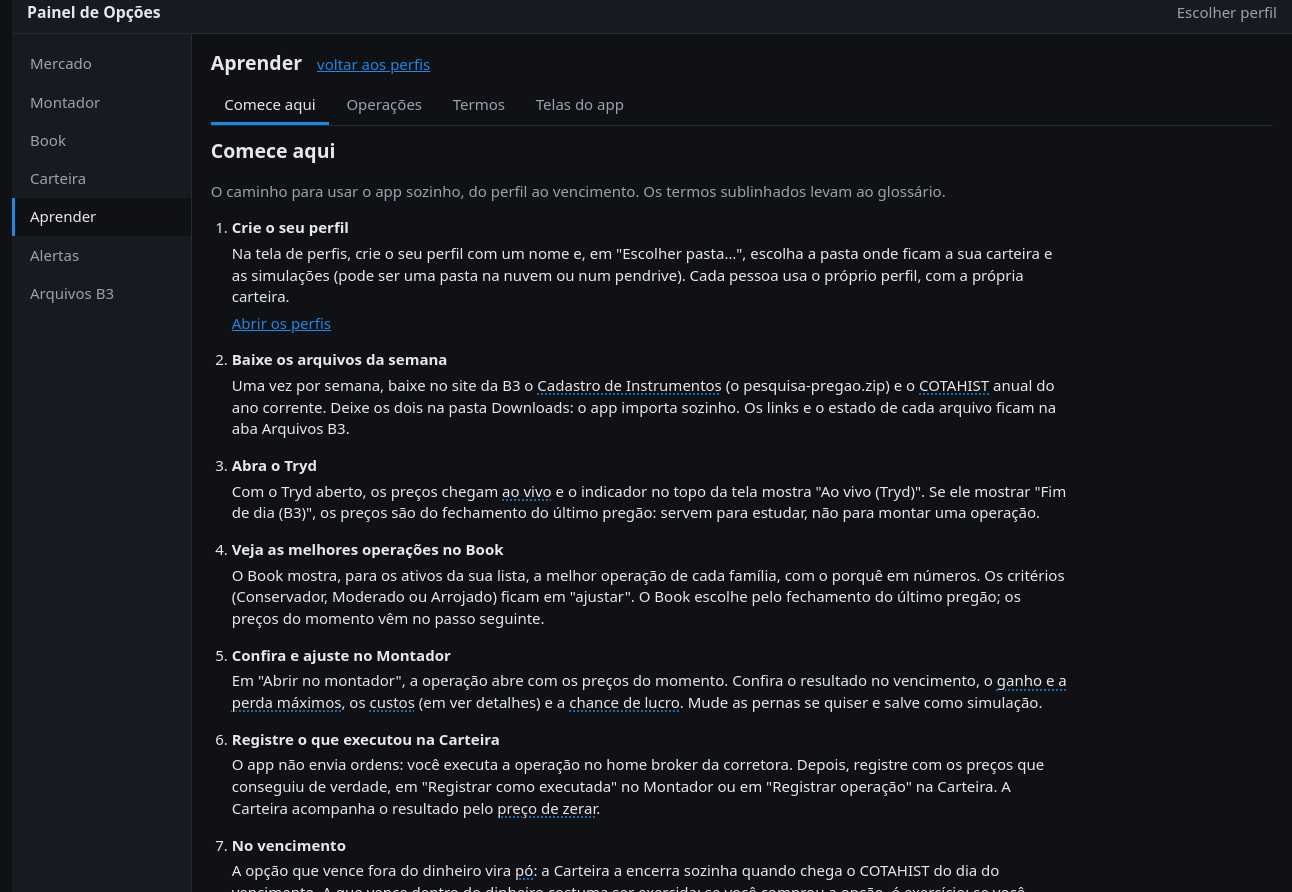
sem perfil, /aprender abre em Comece aqui e dá o caminho de volta aos perfis
Expected: the navigation bar named "Seções de Aprender" is shown, [211,88,1273,126]
Click the link "voltar aos perfis".
click(374, 65)  # box [317,54,430,76]
(page scrolled)
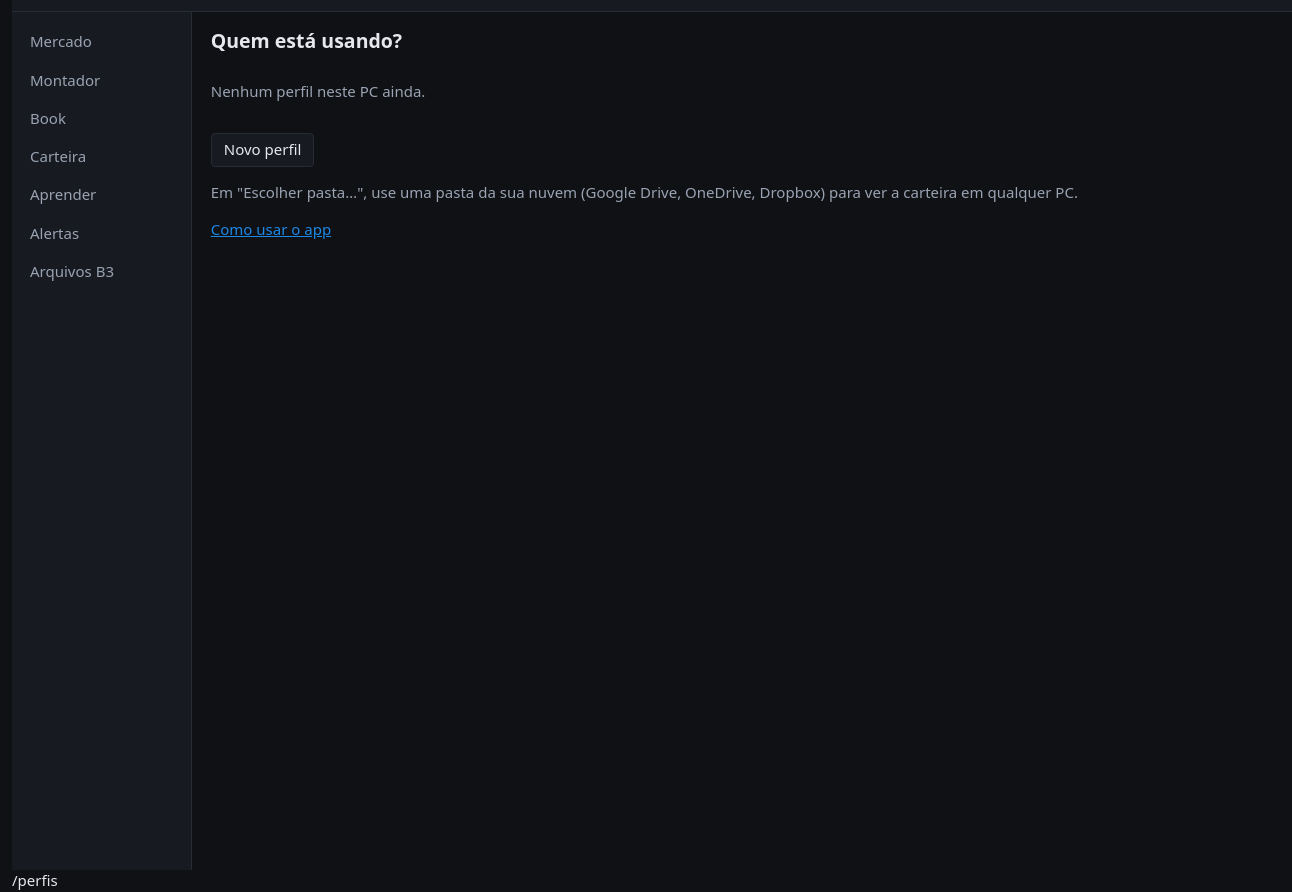
Expected: the heading "Quem está usando?" is shown, [211,27,402,54]
Expected: the text with test id "endereco" reads "/perfis", [12,870,58,890]
